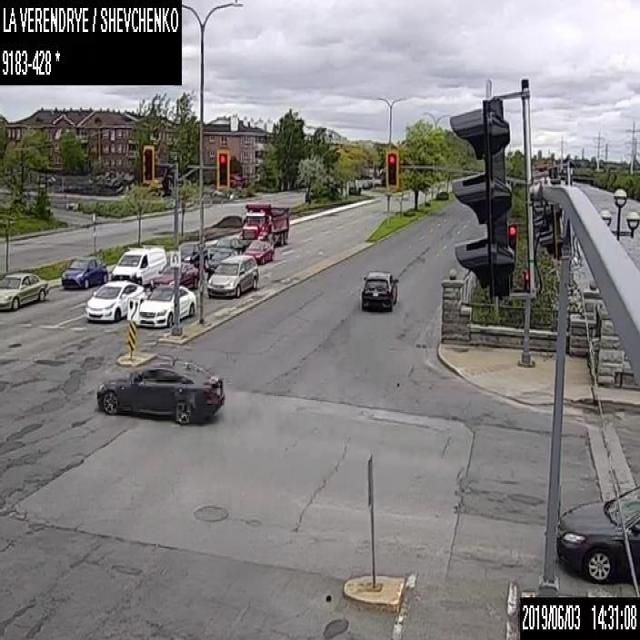vehicle: (96, 355, 224, 424), (554, 481, 639, 583), (134, 283, 196, 327), (86, 278, 144, 322), (111, 244, 167, 286), (207, 254, 258, 298), (240, 203, 288, 245), (0, 271, 50, 309), (360, 268, 398, 311), (61, 256, 107, 287), (150, 261, 198, 290), (204, 248, 236, 274), (209, 235, 245, 257), (243, 240, 274, 264), (178, 239, 206, 263)
